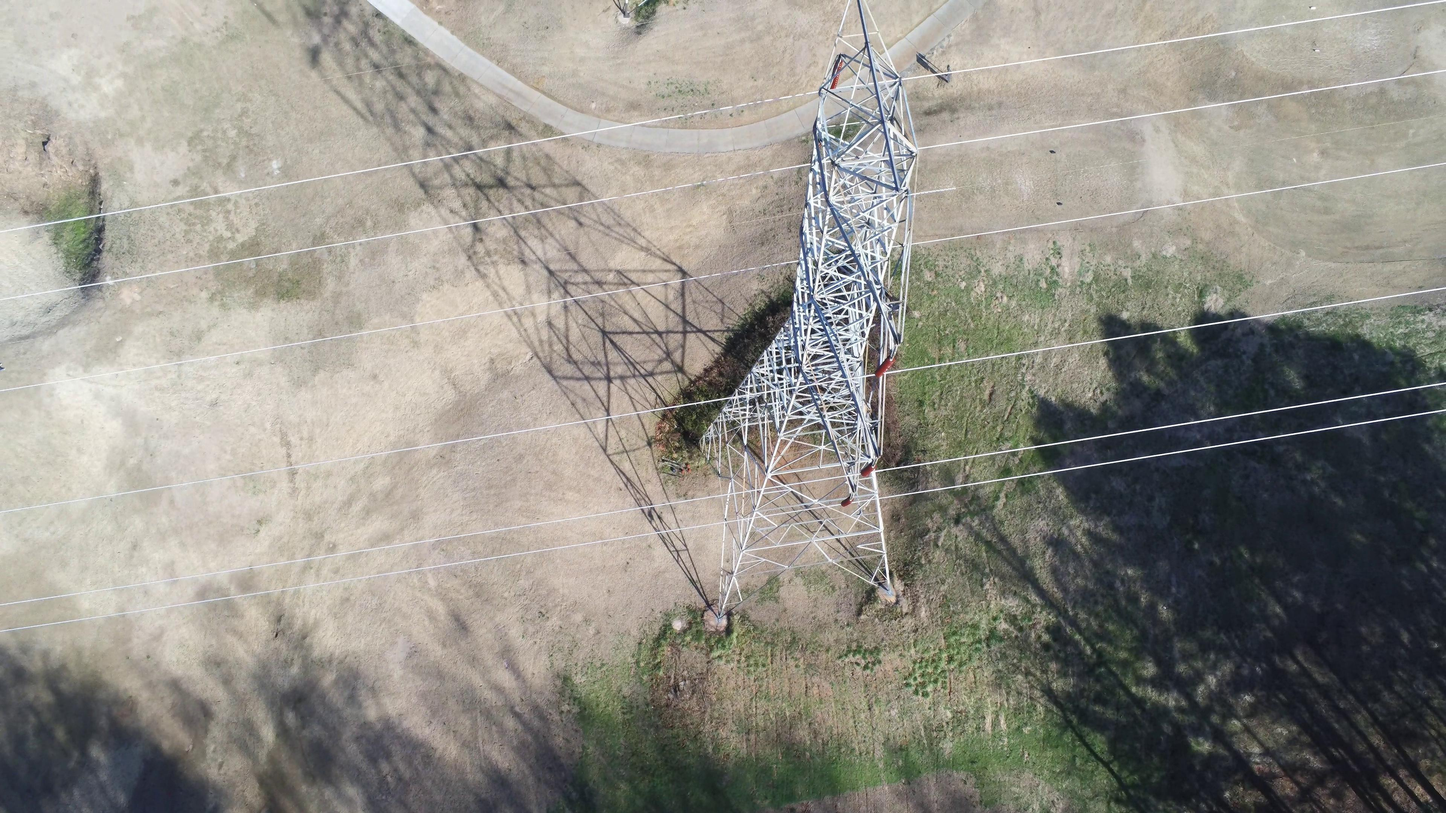power_tower: (696, 0, 919, 621)
